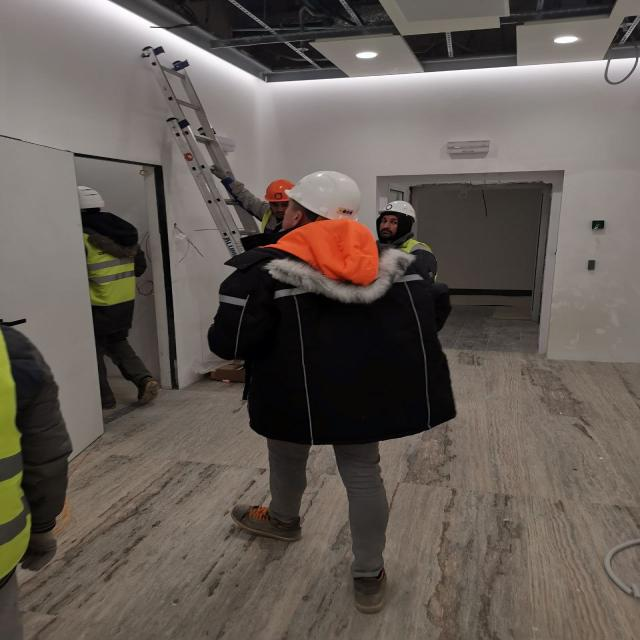Helmet: (276, 172, 364, 234), (374, 202, 421, 245), (258, 179, 293, 214), (80, 186, 112, 218)
